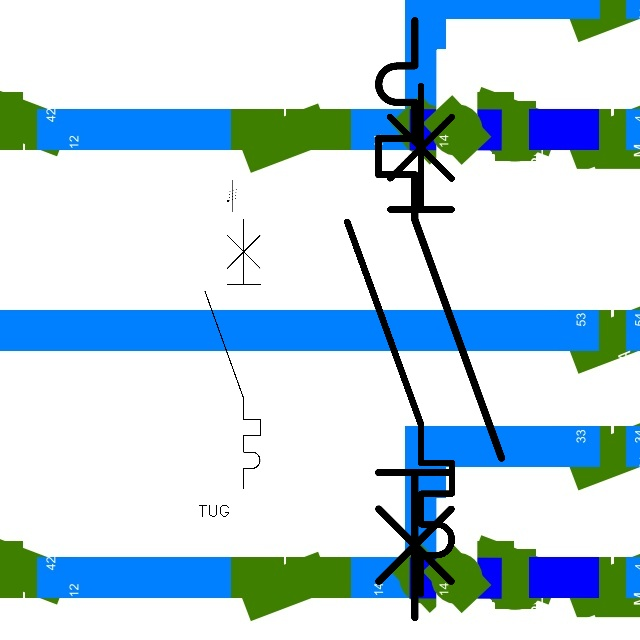interruptor_termomagnetico: (363, 5, 517, 633), (334, 73, 465, 607), (198, 212, 267, 496)
